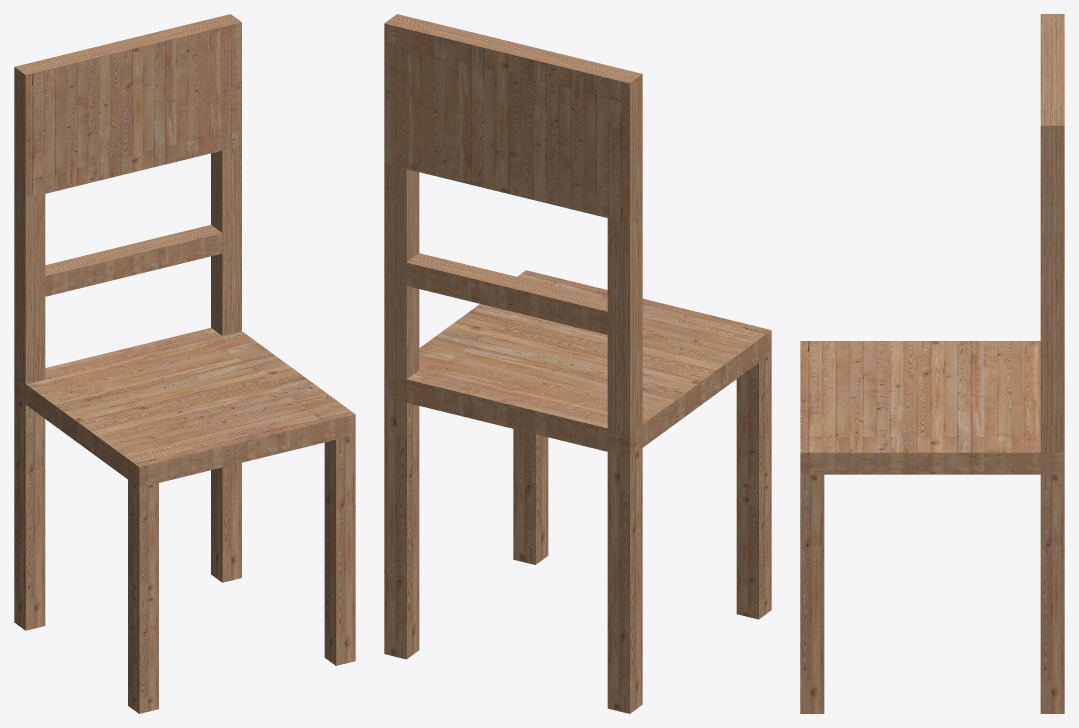
Rendered from chair.obj.
3 views of the same model, side by side, from view 1: azimuth 30°, elevation 25°; view 2: azimuth 150°, elevation 25°; view 3: azimuth 270°, elevation 25° (orthographic). The views are drawn at different scales.
Visible parts, largest first — view 1: Cube.007; view 2: Cube.007; view 3: Cube.007.
Part boxes in pixels (x1=…): Cube.007: x1=14, y1=14, x2=355, y2=713; Cube.007: x1=384, y1=14, x2=771, y2=713; Cube.007: x1=800, y1=14, x2=1064, y2=713.
Bounding box in the file's own units: 220 × 540 × 220.
Materials: 1 (1 with a texture image).
